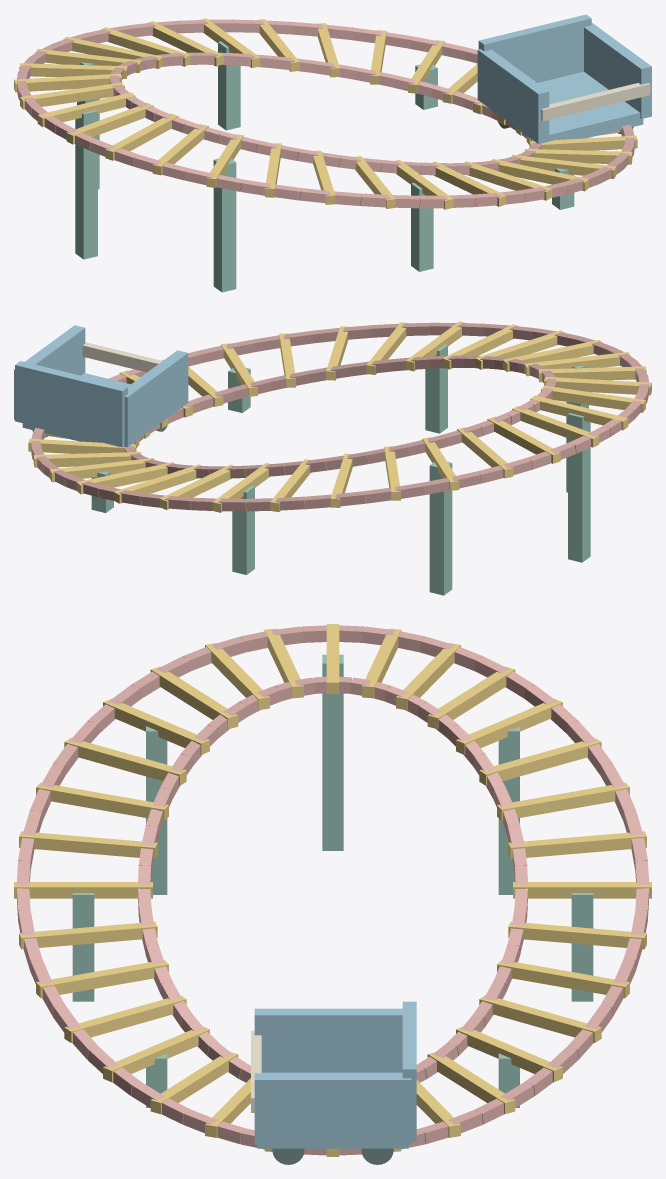
The model's file is coaster.glb.
3 views of the same model, one above another, from view 1: azimuth 30°, elevation 25°; view 2: azimuth 150°, elevation 25°; view 3: azimuth 270°, elevation 25° (orthographic). The views are drawn at different scales.
Visible parts, largest first — view 1: track sleeper, continuous rail.001, cushioned floor, track support, front safety bar; view 2: track sleeper, continuous rail.001, cushioned floor, track support, front safety bar; view 3: track sleeper, continuous rail.001, cushioned floor, track support, car wheel.001.
Boxes of the visible parts, x1,y1,x2,y2 form: track sleeper: (14, 18, 637, 209); continuous rail.001: (16, 19, 634, 208); cushioned floor: (477, 14, 651, 144); track support: (75, 41, 574, 292); front safety bar: (541, 83, 650, 121); track sleeper: (28, 321, 651, 512); continuous rail.001: (31, 322, 649, 511); cushioned floor: (14, 325, 188, 447); track support: (91, 344, 590, 595); front safety bar: (82, 342, 162, 372); track sleeper: (14, 624, 651, 1156); continuous rail.001: (16, 625, 649, 1155); cushioned floor: (254, 1001, 416, 1148); track support: (72, 654, 593, 1107); car wheel.001: (272, 1148, 393, 1164).
Bounding box in the file's own units: 4.87 × 1.19 × 3.58.
